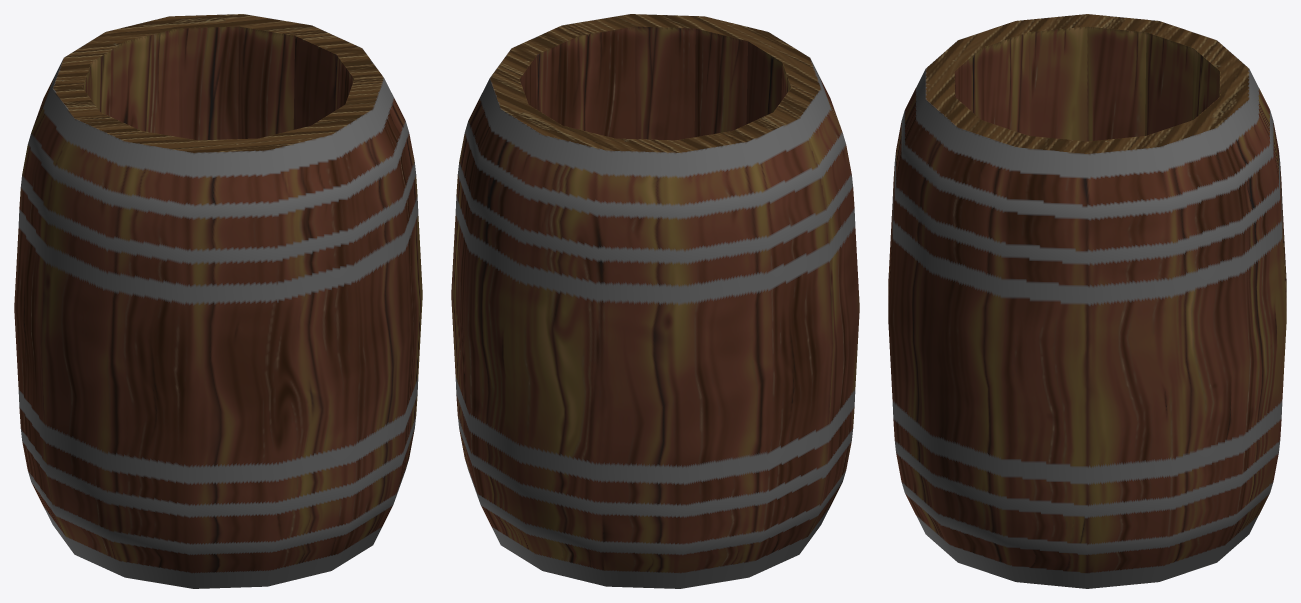
Rendered from Barrel_2.fbx.
3 renders of one model, left to right at view 1: azimuth 30°, elevation 25°; view 2: azimuth 150°, elevation 25°; view 3: azimuth 270°, elevation 25°, orthographic.
Visible parts, largest first — view 1: BarileAperto; view 2: BarileAperto; view 3: BarileAperto.
Part boxes in pixels (x1,y1,x2,y2): BarileAperto: (14,14,422,588); BarileAperto: (451,14,859,588); BarileAperto: (888,14,1286,588).
Bounding box in the file's own units: 0.604 × 0.7092 × 0.5888.
